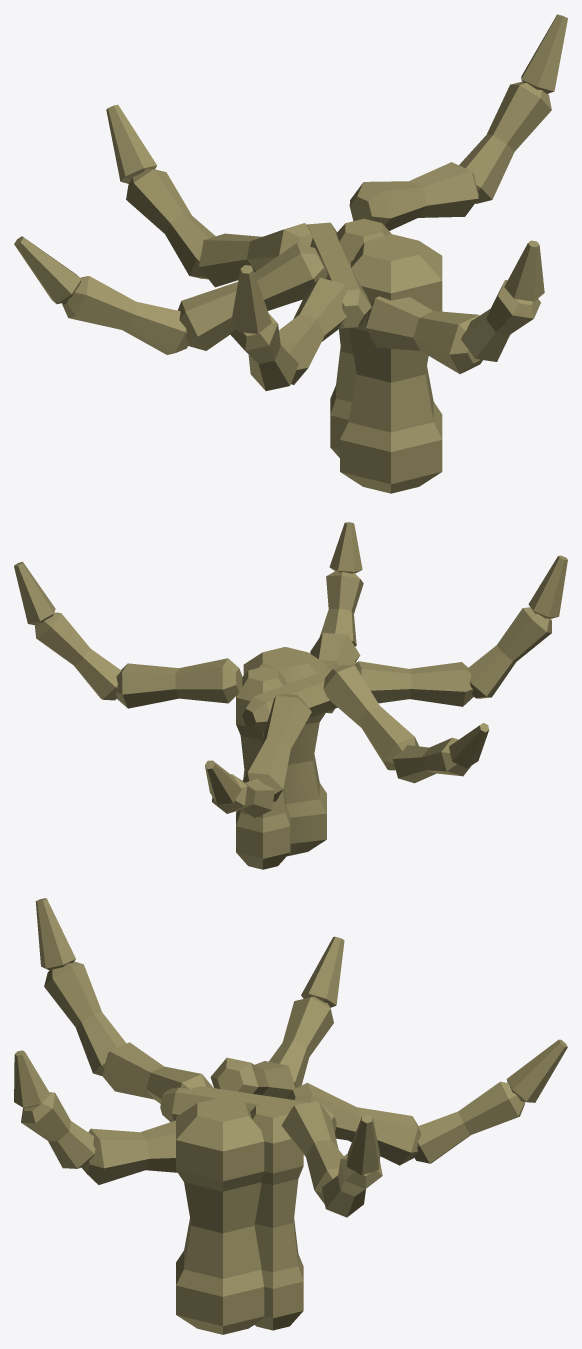
Rendered from SmallLess_SF_baigu.fbx.
3 views of the same model, one above another, from view 1: azimuth 30°, elevation 25°; view 2: azimuth 150°, elevation 25°; view 3: azimuth 270°, elevation 25° (orthographic). The views are drawn at different scales.
Parts seen in each view (by area): view 1: SF_baigu; view 2: SF_baigu; view 3: SF_baigu.
Boxes of the visible parts, x1=… form: SF_baigu: x1=14, y1=14, x2=567, y2=493; SF_baigu: x1=14, y1=522, x2=567, y2=869; SF_baigu: x1=14, y1=898, x2=567, y2=1334.
Bounding box in the file's own units: 261 × 152 × 241.
